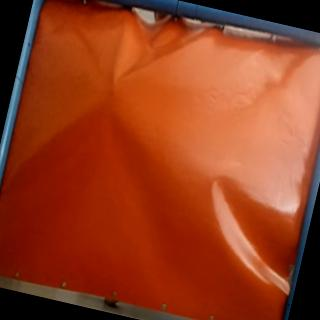Hit-hRxx: (102, 76, 124, 98)
